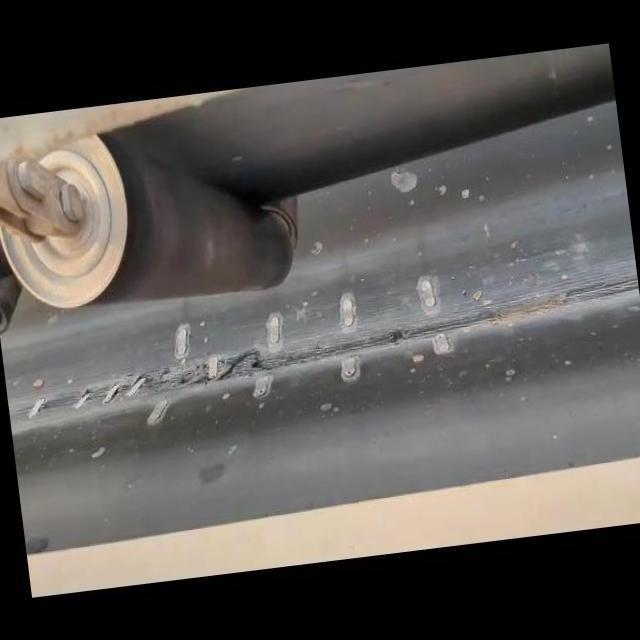Tear: (172, 350, 269, 392)
Wear: (27, 265, 638, 428)
